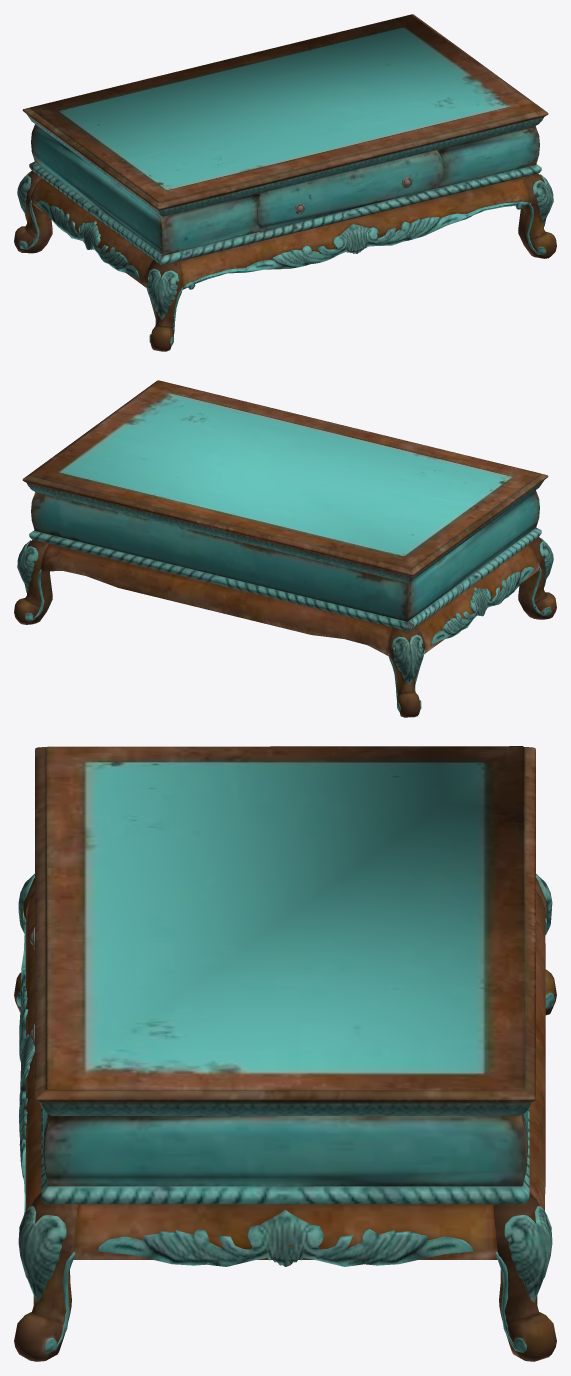
The model's file is coffeeTable.glb.
3 renders of one model, top to bottom at view 1: azimuth 30°, elevation 25°; view 2: azimuth 150°, elevation 25°; view 3: azimuth 270°, elevation 25°, orthographic. The views are drawn at different scales.
Parts seen in each view (by area): view 1: CoffeeTable_01; view 2: CoffeeTable_01; view 3: CoffeeTable_01.
Part boxes in pixels (x1,y1,x2,y2): CoffeeTable_01: (14, 14, 556, 351); CoffeeTable_01: (14, 380, 556, 717); CoffeeTable_01: (14, 746, 556, 1361).
Size of the model in its own units: 1.54 by 0.5232 by 0.9728.
1 material, 1 textured.
